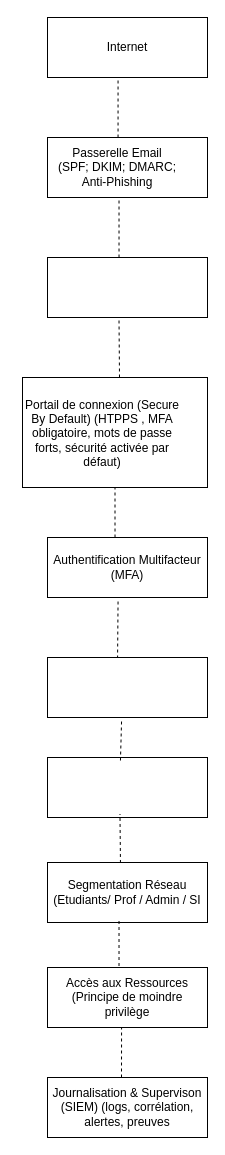
The diagram is 225 pixels wide and 1155 high, and some of its shapes have lost their labels. Here are the shapes that lost their labels. From the top down, the centre of each, then its label:
At point (127, 287): "Boîte Mail Utilisateur".
At point (127, 687): "Contrôles Zero Trust (IP; device , géolocalisation, contexte".
At point (127, 787): "Serveur d'Authentification".
